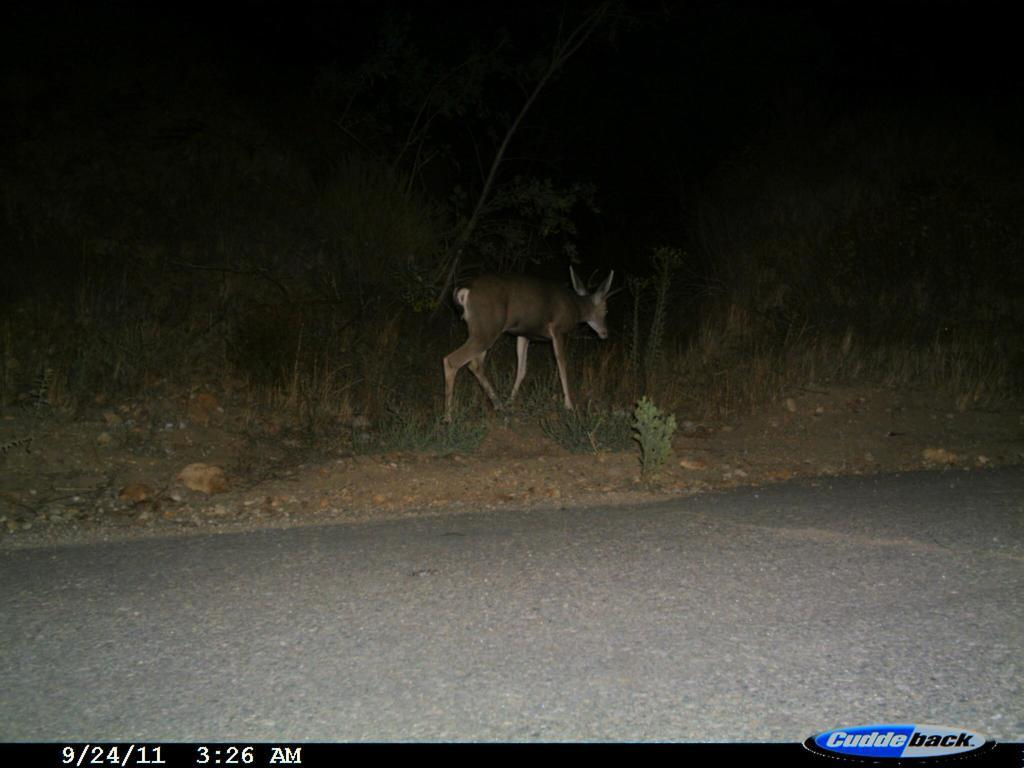deer: (409, 255, 625, 436)
